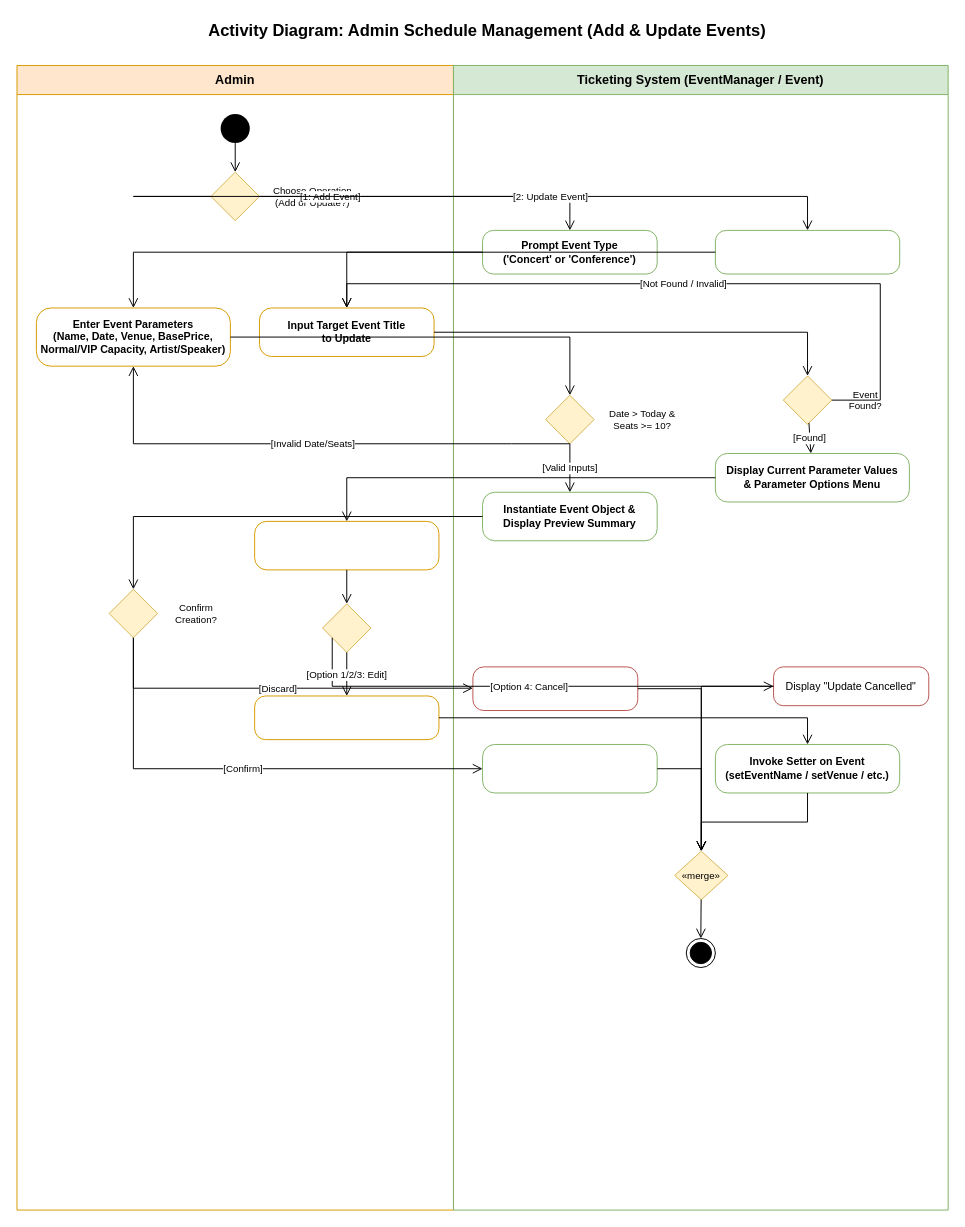
Image size: 965x1227. Some labels were removed from this diagram. The shapes that lost their labels are listed below. From the top down, each one's box as (x1, y1, x2, y2) in pixels, then its label:
(714, 229, 900, 274): Display List of Upcoming Events from Main.eventList
(254, 520, 439, 570): Select Attribute to Update (1:Name, 2:Artist/Speaker, 3:Venue, 4:Cancel)
(472, 666, 638, 711): Remove Pending Event & Display "Event Cancelled"
(254, 695, 439, 740): Enter New Parameter Value
(482, 744, 657, 793): Save Event to Main.eventList & Display Success Message
